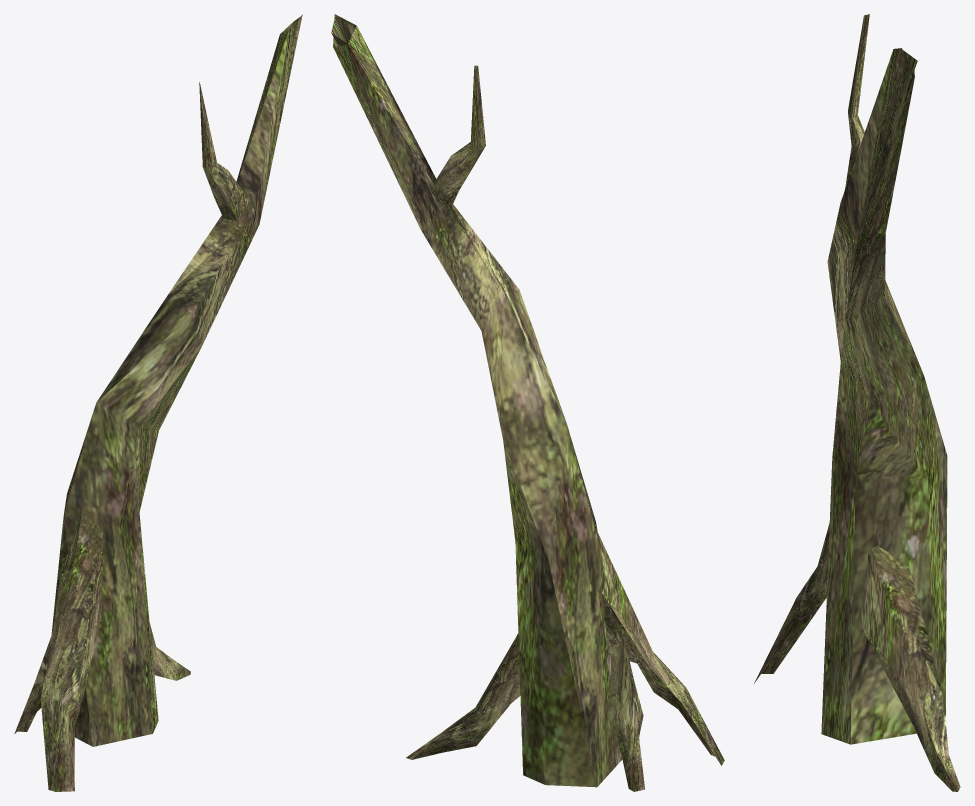
The model's file is S_Tree_Yellow013.FBX.
3 views of the same model, side by side, from view 1: azimuth 30°, elevation 25°; view 2: azimuth 150°, elevation 25°; view 3: azimuth 270°, elevation 25° (orthographic). The views are drawn at different scales.
Visible parts, largest first — view 1: S_Tree_Yellow013; view 2: S_Tree_Yellow013; view 3: S_Tree_Yellow013.
Part boxes in pixels (x1=…): S_Tree_Yellow013: x1=14, y1=14, x2=302, y2=791; S_Tree_Yellow013: x1=331, y1=14, x2=724, y2=791; S_Tree_Yellow013: x1=754, y1=14, x2=960, y2=791.
Size of the model in its own units: 147 by 70.4 by 303.
